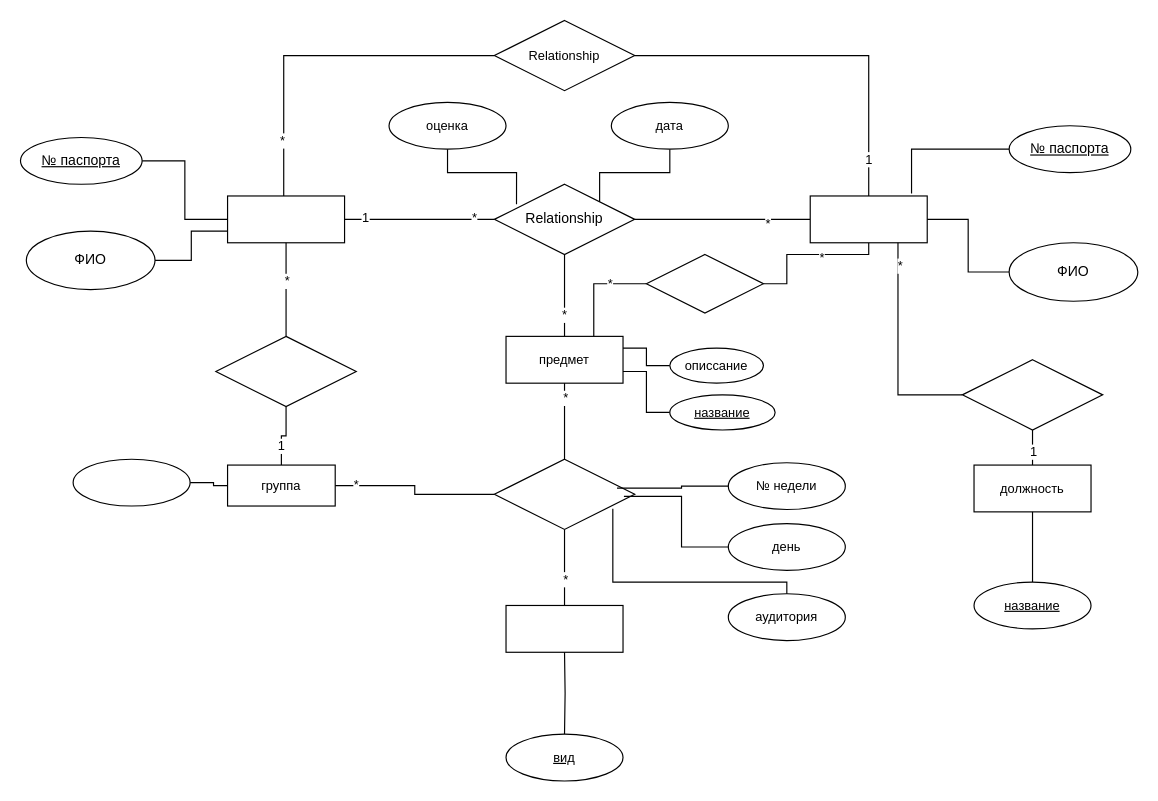
The diagram is 1158 pixels wide and 801 high, and some of its shapes have lost their labels. Each missing label, with the centre of its shape:
"вид занятий" belongs at point 564,628.
"занимает" belongs at point 1032,394.
"находится" belongs at point 285,371.
"номер" belongs at point 131,482.
"преподает" belongs at point 704,283.
"проходит" belongs at point 564,493.
"сотрудник" belongs at point 868,219.
"студент" belongs at point 285,219.
